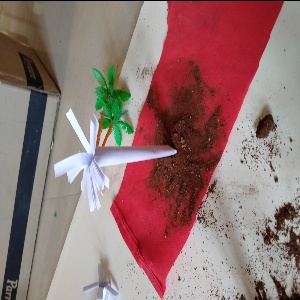plant: (79, 52, 140, 145)
weed: (47, 113, 200, 196), (66, 247, 132, 300)
